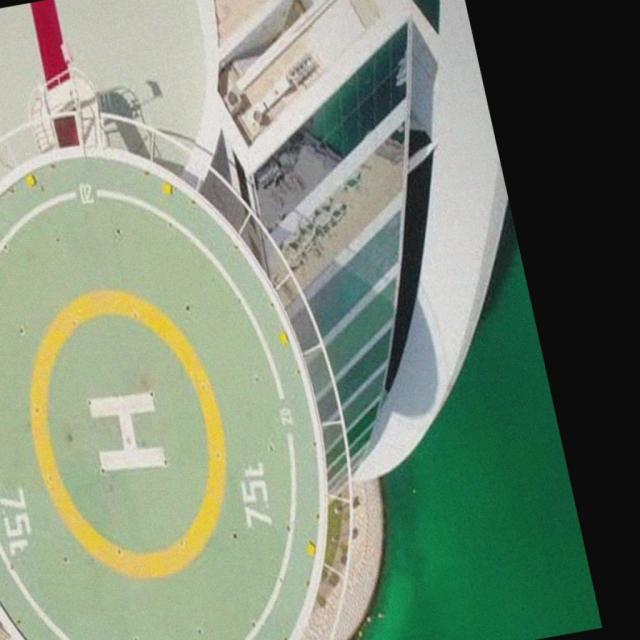helipad: (24, 282, 234, 584)
